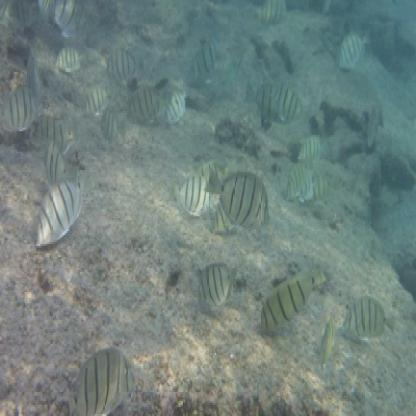surgeon: (36, 162, 97, 249), (71, 345, 143, 415), (208, 164, 276, 236), (259, 263, 325, 334), (245, 77, 305, 129), (197, 262, 243, 317), (343, 297, 398, 341), (1, 86, 44, 138), (170, 171, 213, 221), (41, 3, 90, 42), (126, 84, 169, 123), (188, 38, 219, 92), (105, 47, 145, 88), (336, 31, 374, 70), (316, 310, 339, 374), (286, 160, 314, 206), (100, 103, 130, 143), (367, 105, 388, 153), (255, 1, 291, 25), (54, 44, 82, 73), (168, 84, 186, 129), (295, 138, 325, 165)
